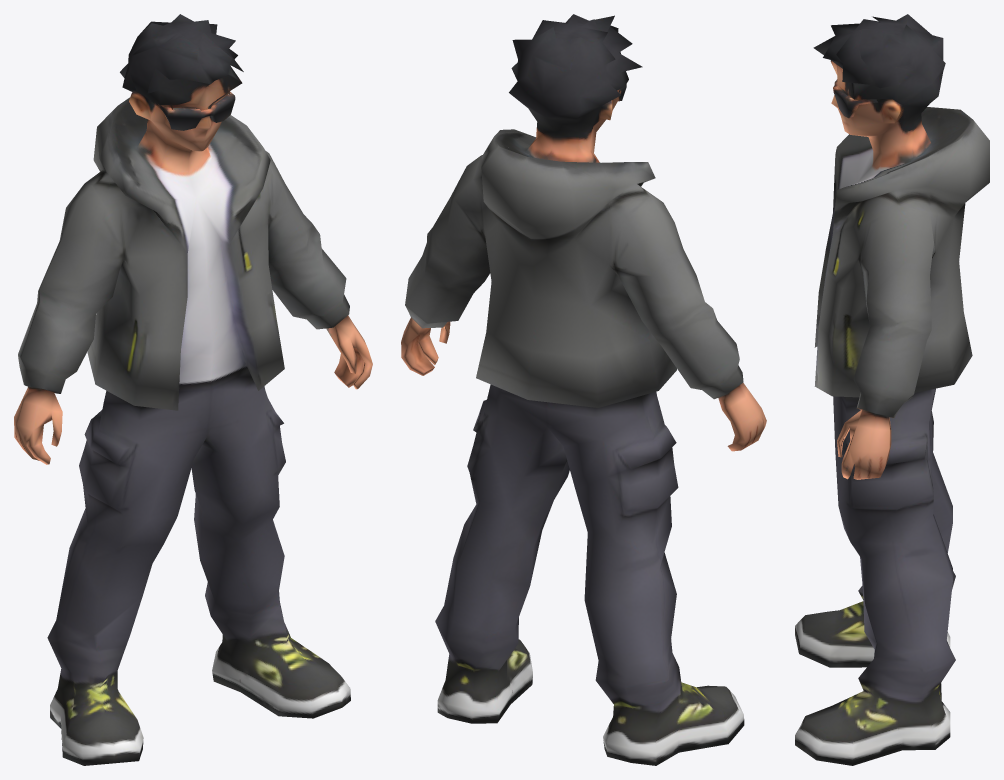
Rendered from blind_person.glb.
3 views of the same model, side by side, from view 1: azimuth 30°, elevation 25°; view 2: azimuth 150°, elevation 25°; view 3: azimuth 270°, elevation 25° (orthographic). The views are drawn at different scales.
Parts seen in each view (by area): view 1: BlindPerson; view 2: BlindPerson; view 3: BlindPerson.
Boxes of the visible parts, <box> form: BlindPerson: <box>14,14,372,765</box>; BlindPerson: <box>401,14,766,765</box>; BlindPerson: <box>795,14,989,765</box>.
Size of the model in its own units: 0.9502 by 1.8 by 0.4675.
1 material, 1 textured.
